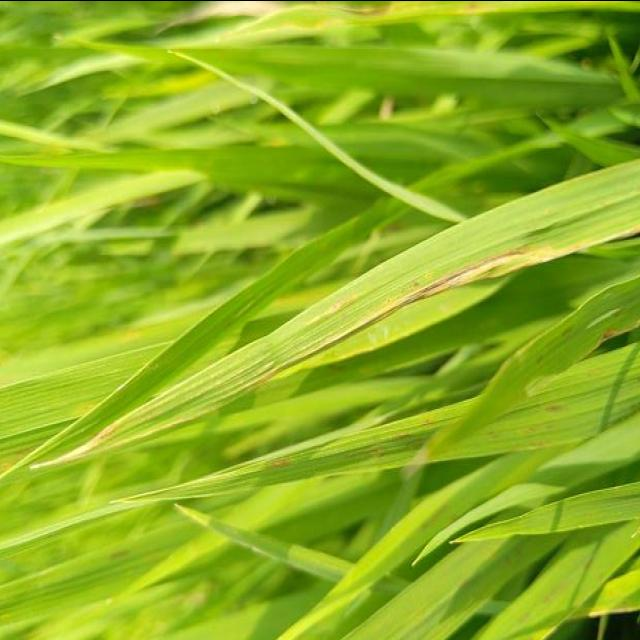Leaf Blight: (31, 157, 640, 467)
